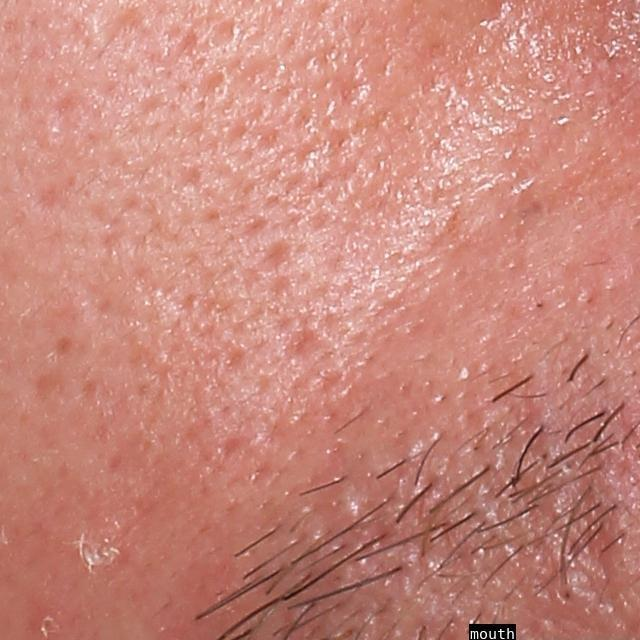atrophic_scar: (576, 490, 618, 597), (257, 231, 300, 273), (278, 326, 325, 362), (103, 5, 143, 43), (28, 176, 63, 214)
